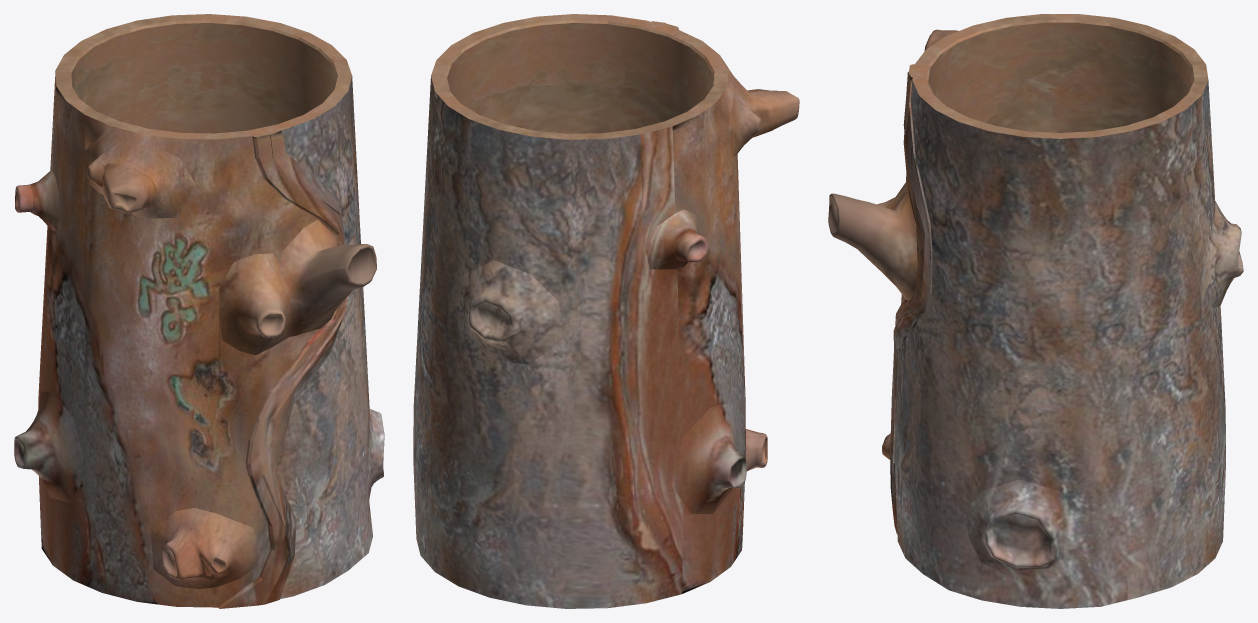
Rendered from Bitong.obj.
The picture shows the model from 3 angles, left to right: view 1: azimuth 30°, elevation 25°; view 2: azimuth 150°, elevation 25°; view 3: azimuth 270°, elevation 25°; orthographic projection.
Visible parts, largest first — view 1: Cylinder001; view 2: Cylinder001; view 3: Cylinder001.
Part boxes in pixels (x1,y1,x2,y2): Cylinder001: (14, 14, 384, 608); Cylinder001: (413, 14, 799, 608); Cylinder001: (828, 14, 1243, 608).
Bounding box in the file's own units: 17.52 × 23.38 × 19.1.
2 materials, 2 textured.
